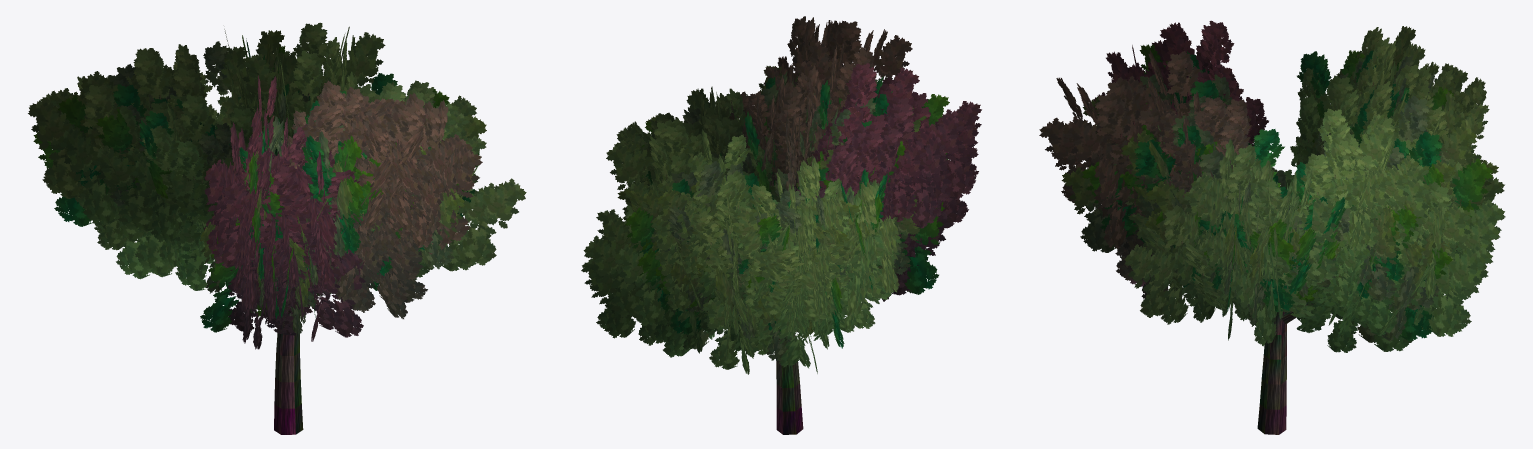
Rendered from nat_oak_b_LOD1.glb.
The picture shows the model from 3 angles, left to right: view 1: azimuth 30°, elevation 25°; view 2: azimuth 150°, elevation 25°; view 3: azimuth 270°, elevation 25°; orthographic projection. The views are drawn at different scales.
Visible parts, largest first — view 1: nat_oak_b_LOD1; view 2: nat_oak_b_LOD1; view 3: nat_oak_b_LOD1.
Part boxes in pixels (bbox=[...]): nat_oak_b_LOD1: bbox=[28, 22, 526, 434]; nat_oak_b_LOD1: bbox=[581, 16, 981, 434]; nat_oak_b_LOD1: bbox=[1039, 20, 1505, 434].
Bounding box in the file's own units: 7.34 × 7.01 × 8.16.
Materials: 2 (2 with a texture image).
